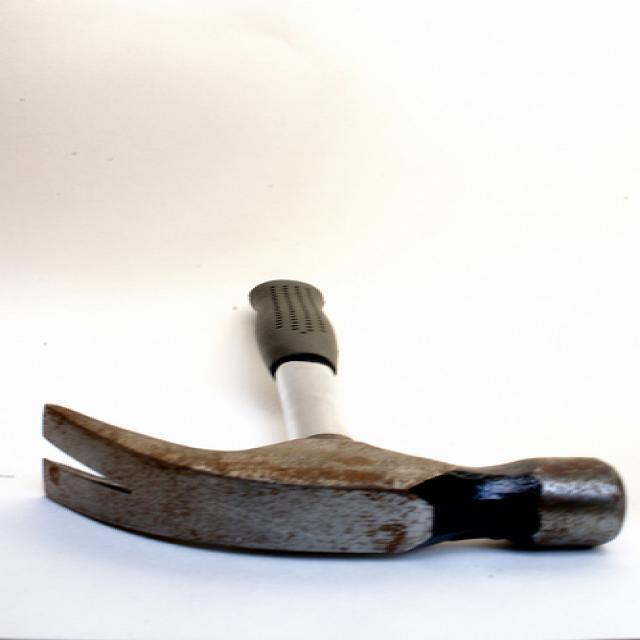hammer: (31, 274, 634, 562)
